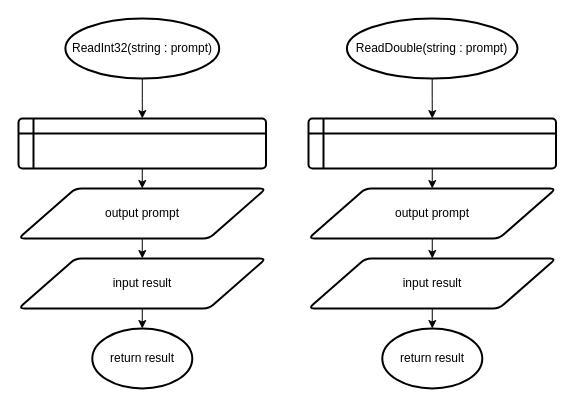
Some shapes in this 574 by 406 pixel diagram are drawn without their labels. The shapes that lost their labels are listed below. From the top down, each one's centre as x and y in pixels, then its label:
At (x=141, y=143): "integer : result".
At (x=431, y=143): "real : result".
